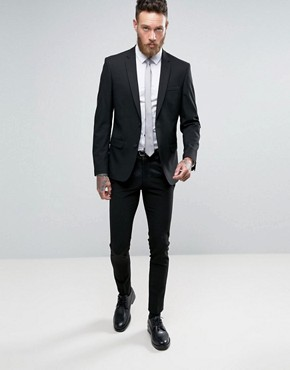suit: (78, 40, 210, 200)
